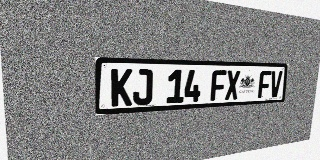1: (167, 69, 185, 103)
4: (184, 70, 201, 102)
F: (210, 70, 227, 101), (258, 71, 272, 98)
J: (133, 69, 153, 105)
K: (111, 69, 133, 107)
V: (269, 71, 283, 97)
X: (225, 70, 240, 100)
